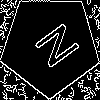N: (25, 20, 81, 76)
